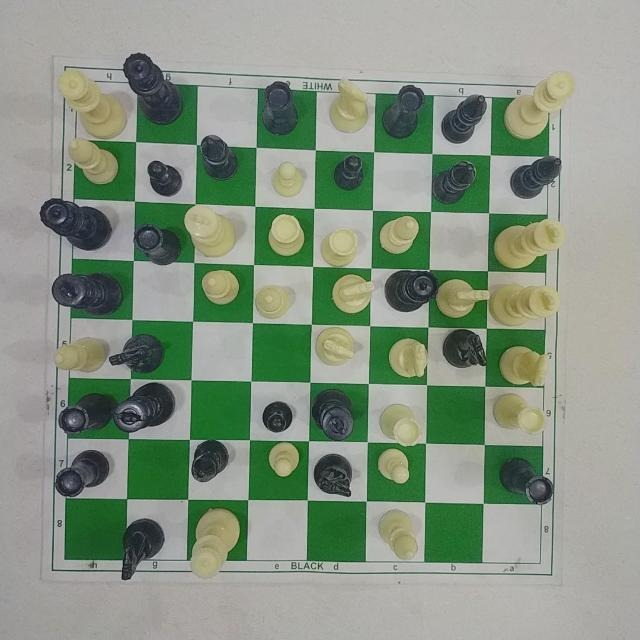black-bishop: (426, 159, 485, 213), (510, 153, 565, 203), (197, 132, 246, 188), (440, 93, 489, 145), (188, 438, 236, 485)
black-king: (47, 264, 128, 322), (115, 381, 181, 436), (311, 385, 364, 447)
black-knight: (120, 513, 169, 582), (109, 330, 169, 374), (443, 329, 493, 376), (312, 452, 360, 500)
black-pawn: (144, 153, 190, 202), (330, 153, 372, 195), (260, 400, 300, 434)
black-queen: (122, 51, 188, 126), (34, 198, 120, 254), (382, 267, 439, 318)
black-rook: (497, 451, 561, 506), (50, 447, 116, 499), (55, 388, 113, 437), (384, 79, 428, 143), (260, 75, 302, 140), (130, 222, 182, 268)
white-bishop: (65, 136, 124, 186), (375, 506, 423, 564), (49, 335, 108, 377), (378, 214, 428, 256), (252, 281, 296, 325), (199, 266, 239, 308)
white-king: (492, 212, 576, 273), (493, 279, 561, 328), (185, 204, 241, 259)
white-knight: (328, 76, 374, 141), (439, 270, 492, 325), (501, 342, 553, 388), (313, 324, 363, 370), (386, 333, 434, 379), (331, 273, 379, 317)
white-pawn: (269, 158, 315, 200), (376, 445, 417, 485), (270, 441, 302, 479)
white-queen: (503, 63, 577, 147), (57, 66, 132, 138), (188, 503, 246, 579)
white-rook: (491, 391, 549, 438), (380, 400, 432, 451), (265, 209, 311, 259), (319, 220, 365, 269)
